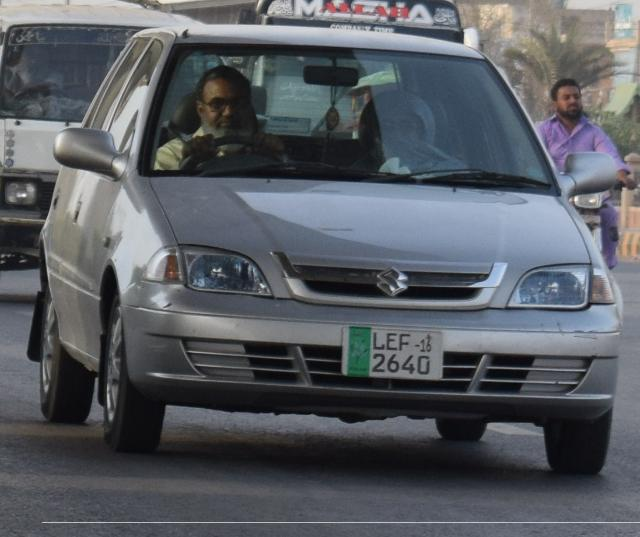plate: (344, 320, 446, 384)
